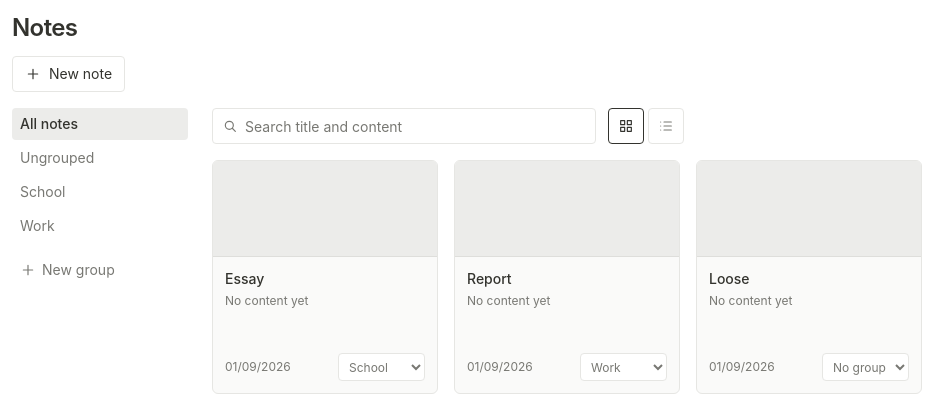
Test: Notes page groups › filters the list by group, ungrouped, and all
Expected: the heading "Essay" is shown, [225,270,264,287]
Expected: the heading "Loose" is shown, [709,270,750,287]
What coordinates should you click on to do the following:
click the button "School"
I would click on:
 (76, 192)
Its box is [12,176,140,208].
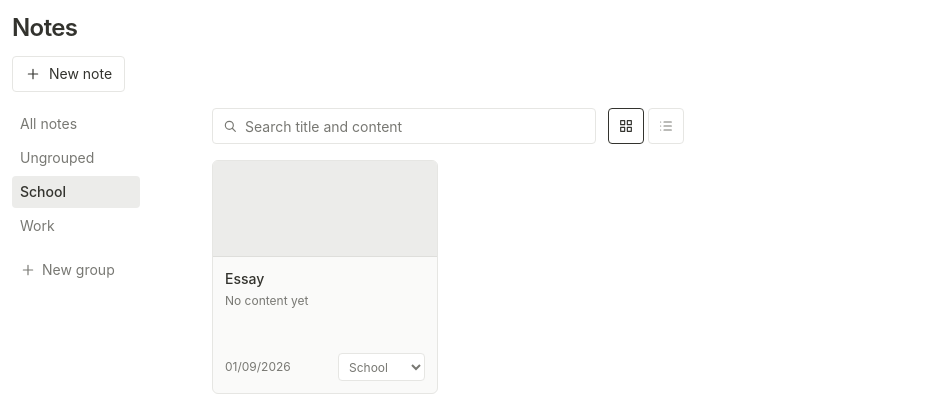
Expected: the heading "Essay" is shown, [225,270,264,287]
Expected: the heading "Report" is gone
Expected: the heading "Loose" is gone
What coordinates should you click on to do the following:
click the button "Ungrouped"
I would click on:
 (100, 158)
Its box is [12,142,188,174].
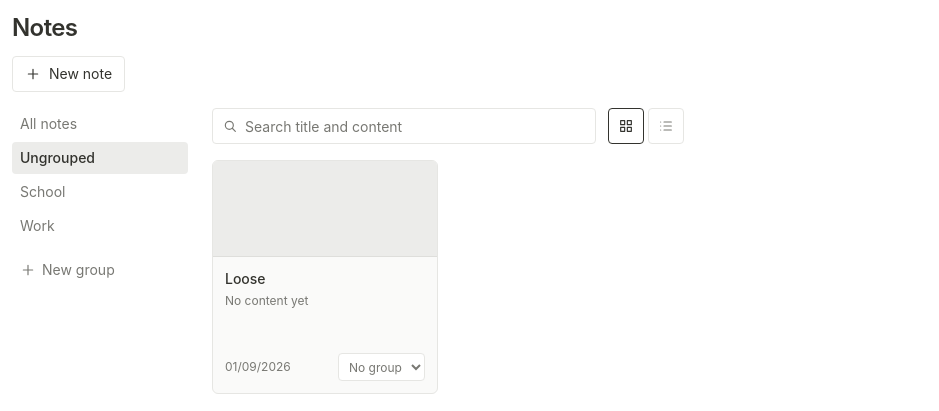
Expected: the heading "Essay" is gone
Expected: the heading "Loose" is shown, [225,270,266,287]
What coordinates should you click on to do the following:
click the button "All notes"
I would click on:
 (100, 124)
Its box is [12,108,188,140].
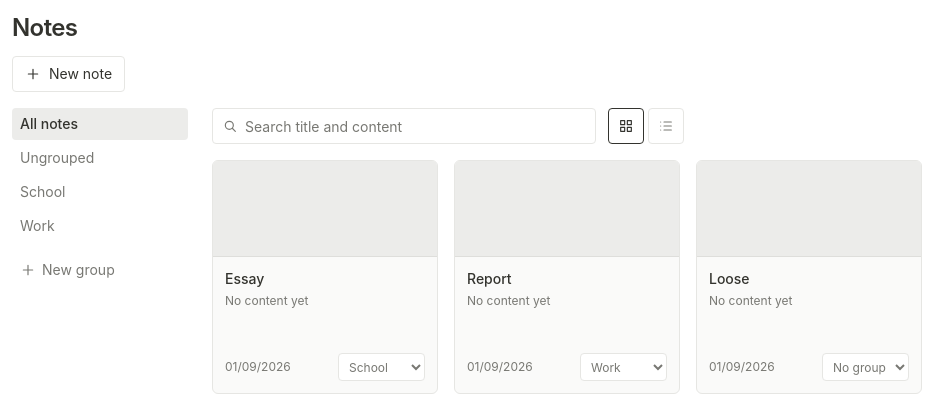
Expected: the heading "Report" is shown, [467,270,512,287]
